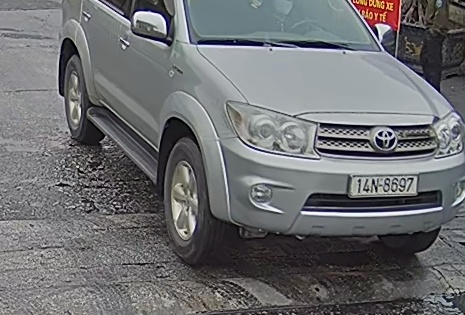vehicle plate: (348, 172, 418, 198)
